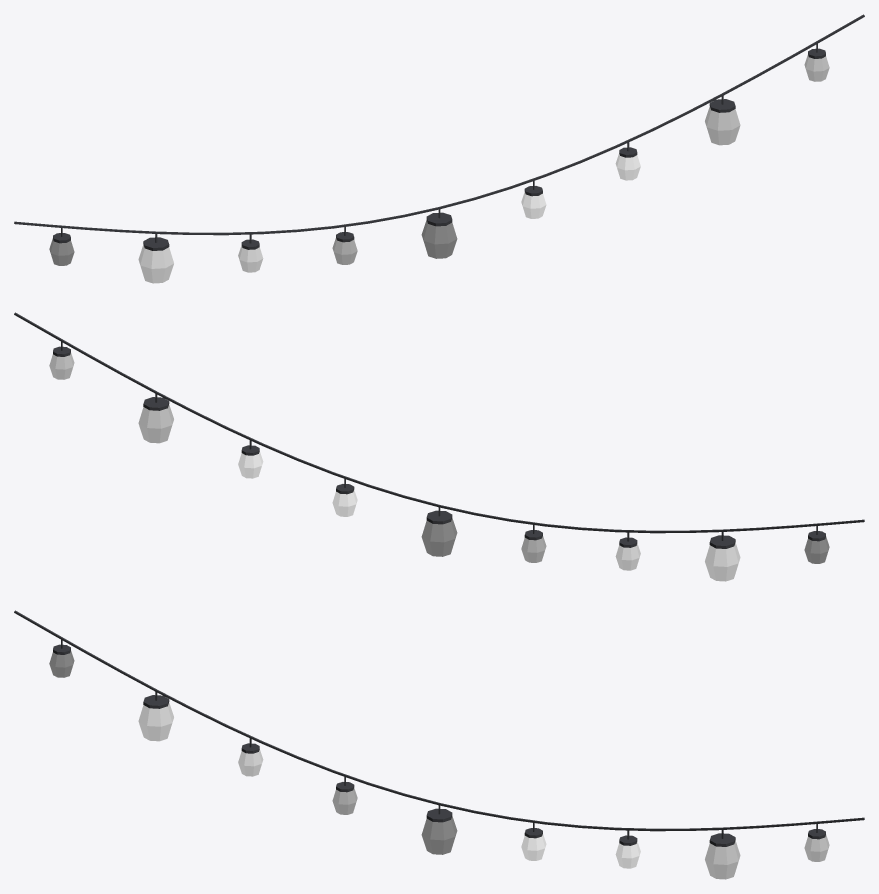
The model's file is lantern_string_9m.glb.
3 renders of one model, top to bottom at view 1: azimuth 30°, elevation 25°; view 2: azimuth 150°, elevation 25°; view 3: azimuth 330°, elevation 25°, orthographic.
Visible parts, largest first — view 1: lantern_string_9m; view 2: lantern_string_9m; view 3: lantern_string_9m.
Boxes of the visible parts, x1=… form: lantern_string_9m: x1=14, y1=14, x2=864, y2=283; lantern_string_9m: x1=14, y1=312, x2=864, y2=581; lantern_string_9m: x1=14, y1=610, x2=864, y2=879.
Bounding box in the file's own units: 9.01 × 1.37 × 0.34.
Materials: 2 (1 with a texture image).
